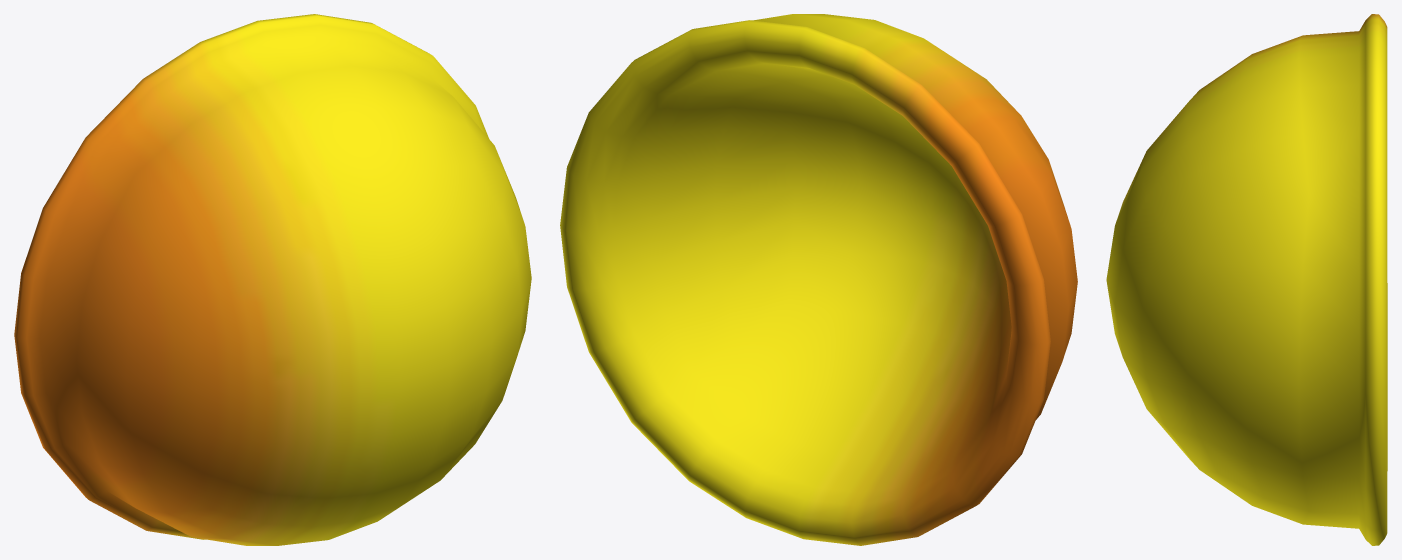
Rendered from AmongUs_Cut_05_Pupka_001_0.FBX.
3 renders of one model, left to right at view 1: azimuth 30°, elevation 25°; view 2: azimuth 150°, elevation 25°; view 3: azimuth 270°, elevation 25°, orthographic. The views are drawn at different scales.
Parts seen in each view (by area): view 1: AmongUs_Cut_05_Pupka_001_0; view 2: AmongUs_Cut_05_Pupka_001_0; view 3: AmongUs_Cut_05_Pupka_001_0.
Boxes of the visible parts, x1=… form: AmongUs_Cut_05_Pupka_001_0: x1=14, y1=14, x2=531, y2=545; AmongUs_Cut_05_Pupka_001_0: x1=560, y1=14, x2=1077, y2=545; AmongUs_Cut_05_Pupka_001_0: x1=1106, y1=14, x2=1387, y2=545.
Bounding box in the file's own units: 0.7857 × 0.4145 × 0.7857.
